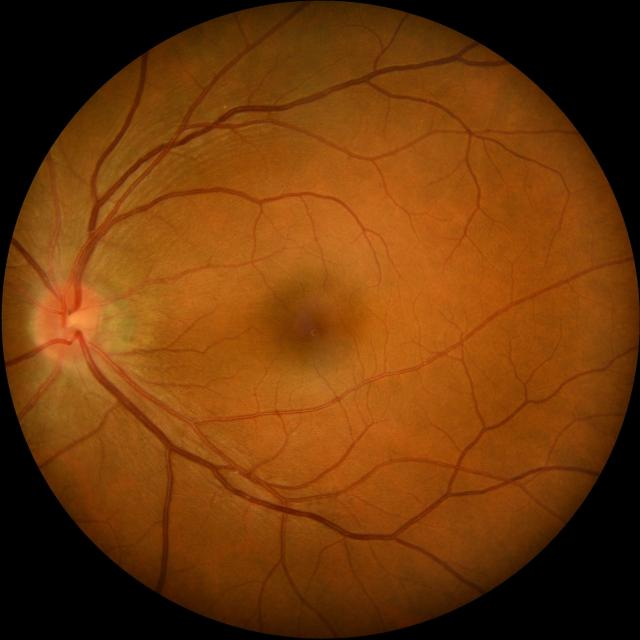OC: (64, 308, 88, 333)
OD: (34, 282, 100, 362)
